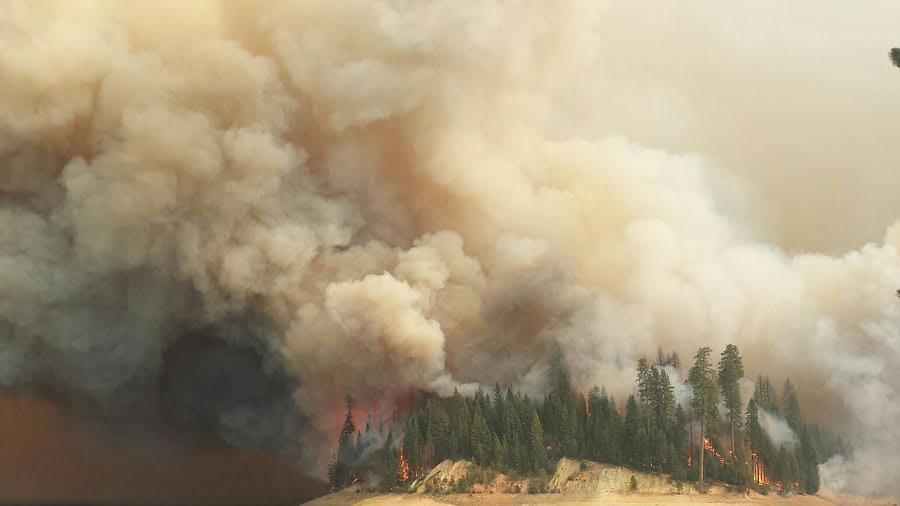fire: (312, 385, 439, 479), (688, 430, 770, 481)
